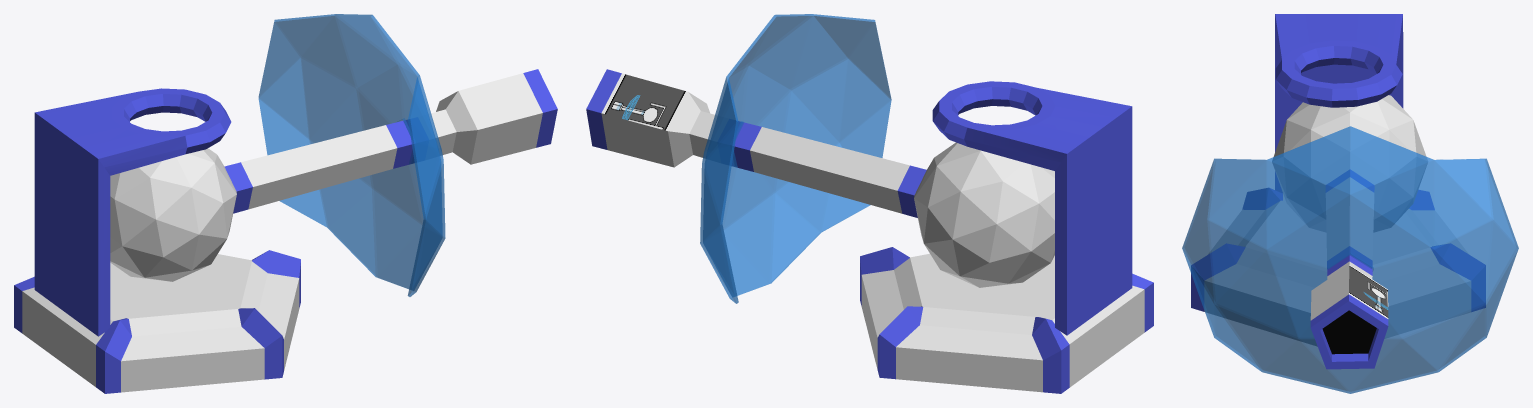
File: hoplita.fbx
3 renders of one model, left to right at view 1: azimuth 30°, elevation 25°; view 2: azimuth 150°, elevation 25°; view 3: azimuth 270°, elevation 25°, orthographic. The views are drawn at different scales.
Visible parts, largest first — view 1: Esfera geodésica.001, Esfera geodésica, Cilindro.001, Rosca.002; view 2: Esfera geodésica, Esfera geodésica.001, Cilindro.001, Rosca.002; view 3: Esfera geodésica.001, Esfera geodésica, Cilindro.001, Rosca.002.
Boxes of the visible parts, x1,y1,x2,y2 form: Esfera geodésica.001: (258, 14, 445, 296); Esfera geodésica: (110, 69, 557, 281); Cilindro.001: (14, 250, 300, 393); Rosca.002: (34, 88, 231, 336); Esfera geodésica: (586, 69, 1054, 287); Esfera geodésica.001: (700, 14, 891, 303); Cilindro.001: (860, 247, 1153, 393); Rosca.002: (932, 81, 1132, 335); Esfera geodésica.001: (1182, 126, 1518, 393); Esfera geodésica: (1272, 95, 1427, 369); Cilindro.001: (1191, 188, 1485, 345); Rosca.002: (1275, 14, 1403, 192).
Size of the model in its own units: 1.65 by 1.43 by 2.76.
